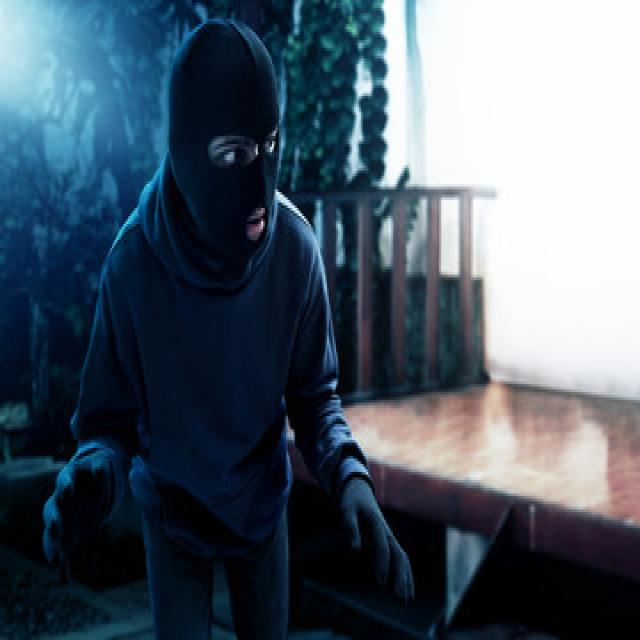person-with-mask: (41, 22, 434, 622)
